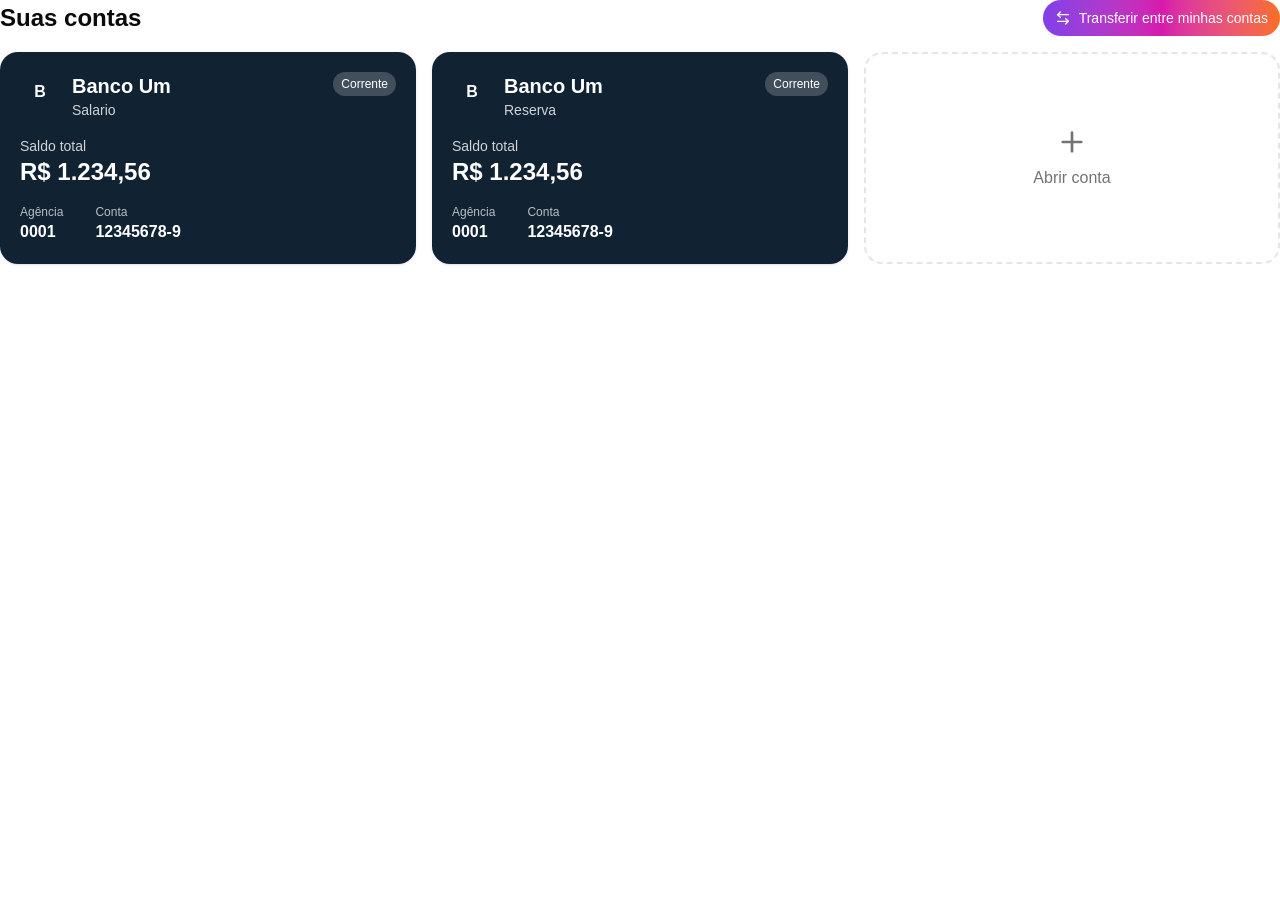
Test case: lista de contas › cancelar fecha a escolha de origem
Click the button "Transferir entre minhas contas" at coordinates (1161, 18), box [1043, 0, 1279, 36]
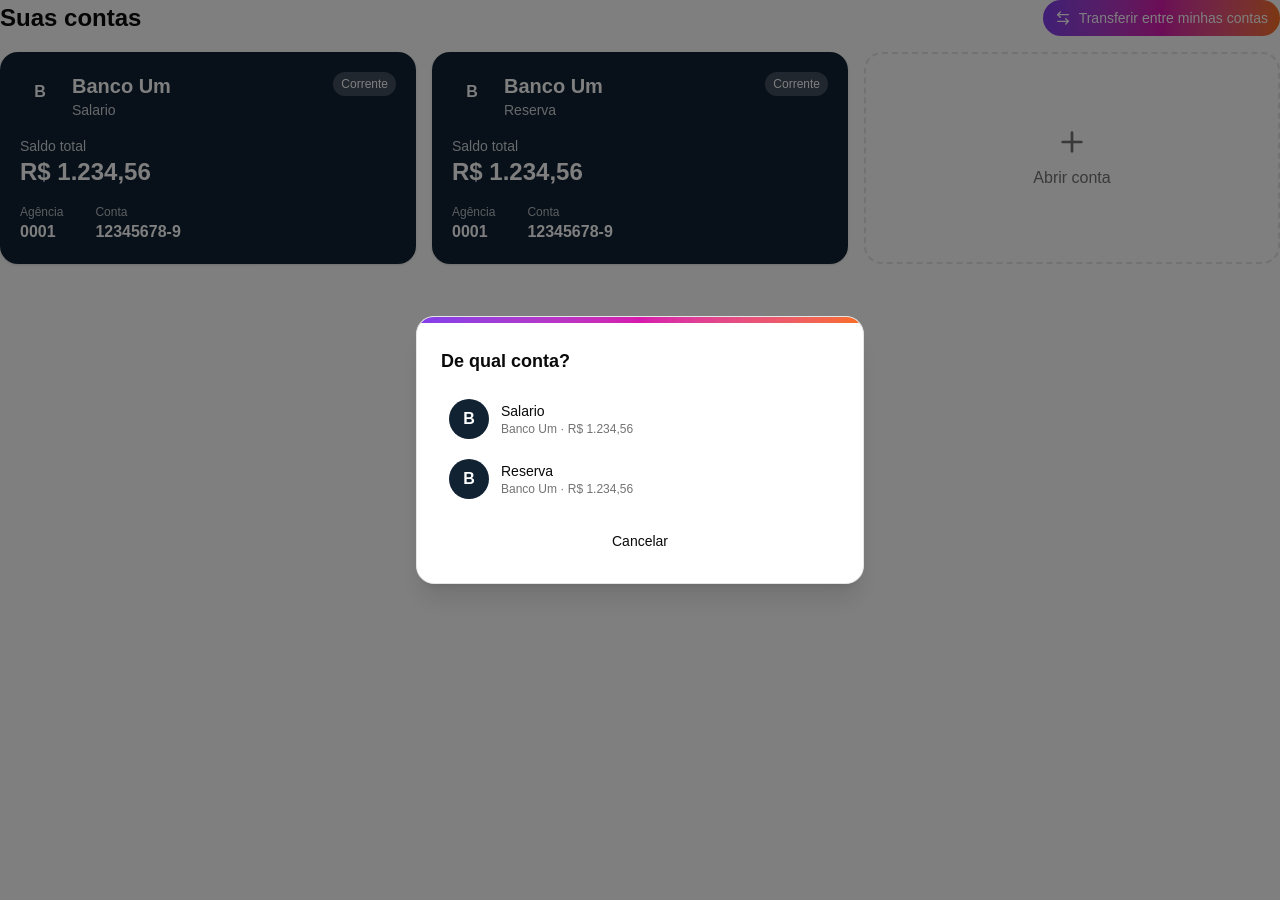
Click the button "Cancelar" at coordinates (640, 541), box [441, 523, 839, 559]
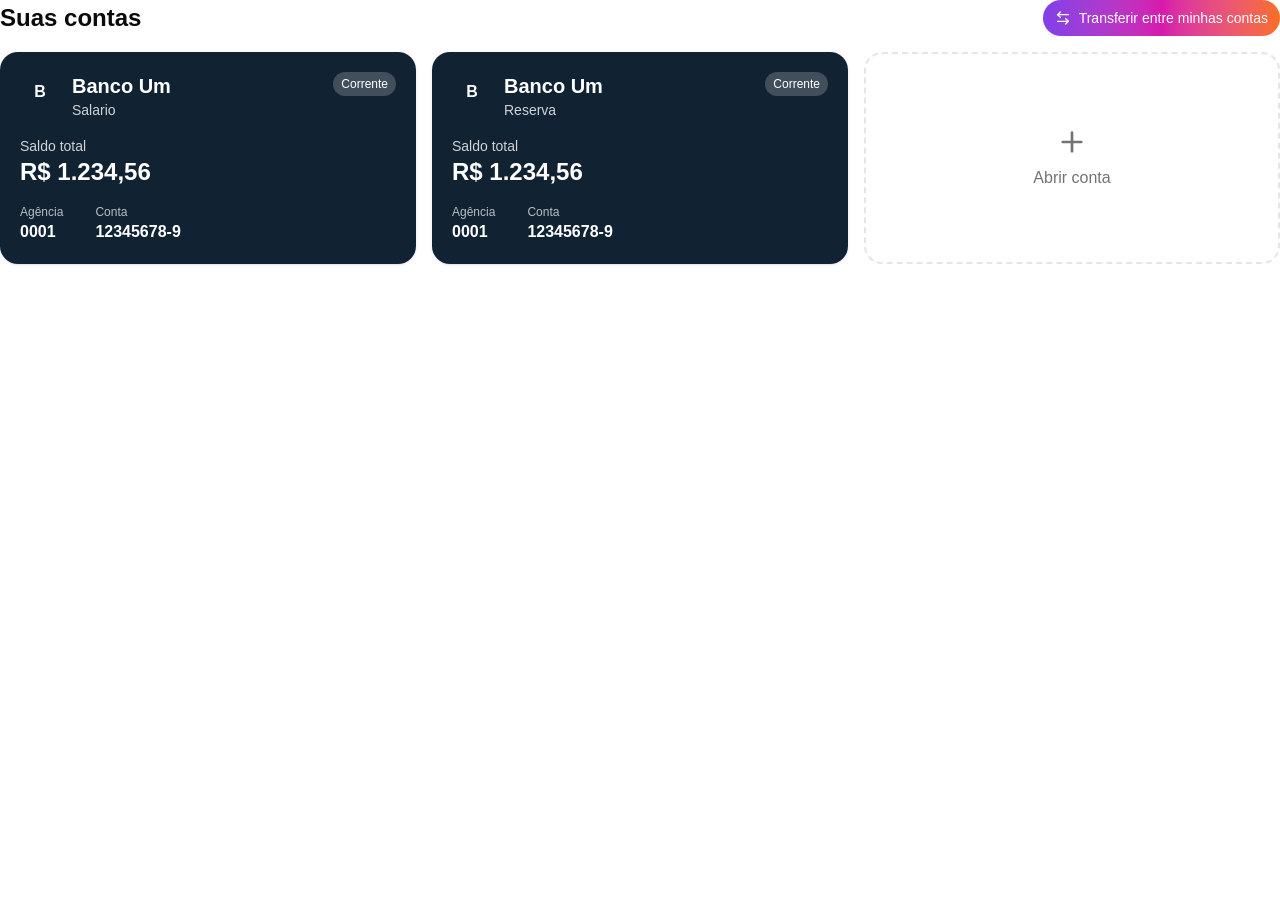
Now the dialog is gone
